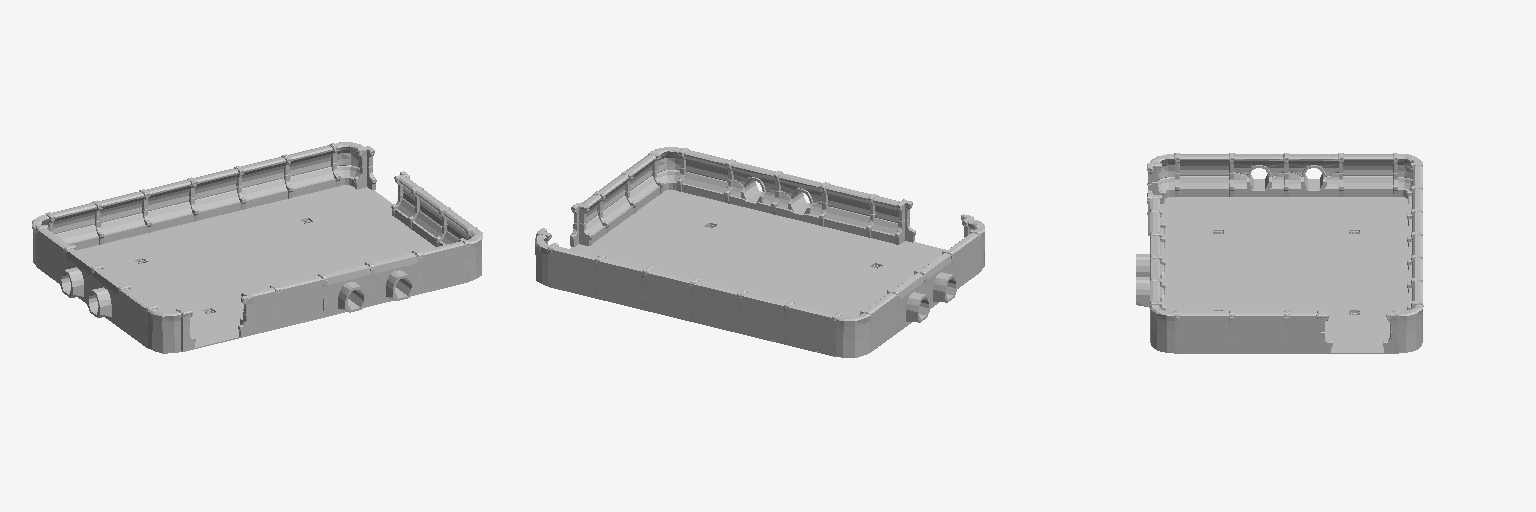
Rendered from DungeonRoom_14.obj.
The picture shows the model from 3 angles: view 1: azimuth 30°, elevation 25°; view 2: azimuth 150°, elevation 25°; view 3: azimuth 270°, elevation 25°; orthographic projection.
Visible parts, largest first — view 1: DungeonRoom_14; view 2: DungeonRoom_14; view 3: DungeonRoom_14.
Part boxes in pixels (left/top/right/bottom): DungeonRoom_14: left=32, top=142, right=482, bottom=353; DungeonRoom_14: left=535, top=147, right=984, bottom=357; DungeonRoom_14: left=1136, top=153, right=1423, bottom=353.
Bounding box in the file's own units: 58.45 × 8.22 × 42.1.